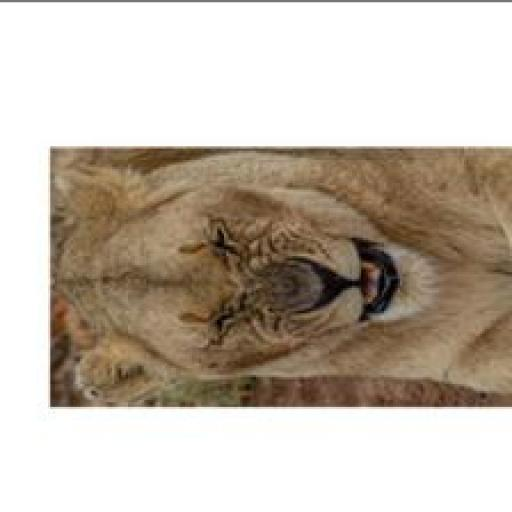lion: (41, 137, 511, 436)
